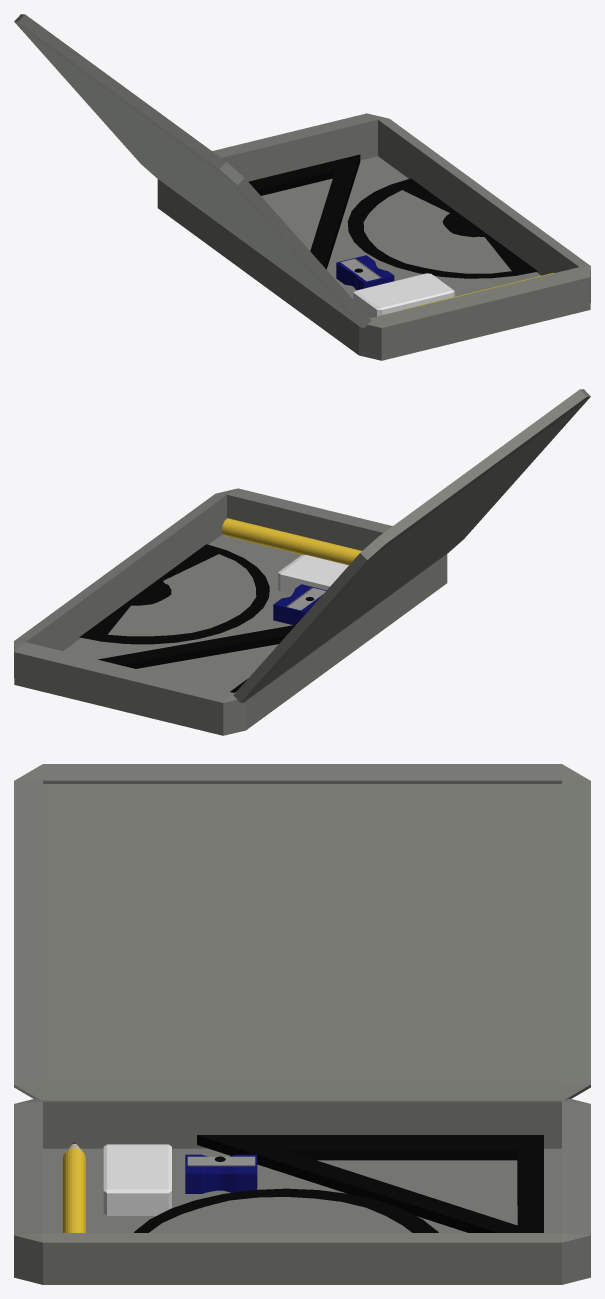
File: mathSet.fbx
3 views of the same model, one above another, from view 1: azimuth 30°, elevation 25°; view 2: azimuth 150°, elevation 25°; view 3: azimuth 270°, elevation 25° (orthographic). The views are drawn at different scales.
Parts seen in each view (by area): view 1: Cube.002, Cube.003, Cylinder, Cube, Cube.001, Icosphere; view 2: Cube.002, Cube.003, Cylinder, Cube, Cylinder.001, Cube.001, Icosphere; view 3: Cube.003, Cube.002, Cube, Cube.001, Cylinder, Icosphere, Cylinder.001.
Boxes of the visible parts, x1,y1,x2,y2 form: Cube.002: (157,113,590,360); Cube.003: (14,14,371,327); Cylinder: (347,178,537,278); Cube: (248,154,360,269); Cube.001: (353,273,454,317); Icosphere: (336,255,394,290); Cube.002: (14,488,447,735); Cube.003: (233,389,590,702); Cylinder: (79,544,269,644); Cube: (98,625,295,692); Cylinder.001: (222,518,361,565); Cube.001: (278,555,348,594); Icosphere: (273,584,326,625); Cube.003: (14,764,590,1100); Cube.002: (14,1098,590,1284); Cube: (197,1135,543,1232); Cube.001: (103,1144,171,1215); Cylinder: (134,1188,438,1232); Icosphere: (185,1154,257,1193); Cylinder.001: (62,1142,85,1232).
Bounding box in the file's own units: 299 × 175 × 312.
